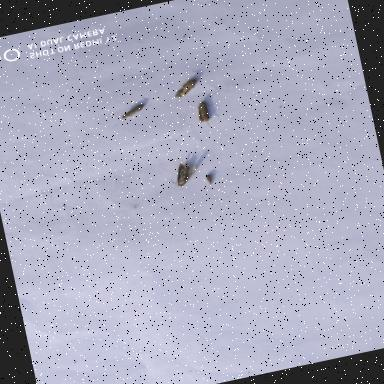pbw: (162, 158, 201, 190), (192, 97, 224, 130), (168, 72, 204, 101), (117, 99, 153, 121), (198, 169, 218, 191)
